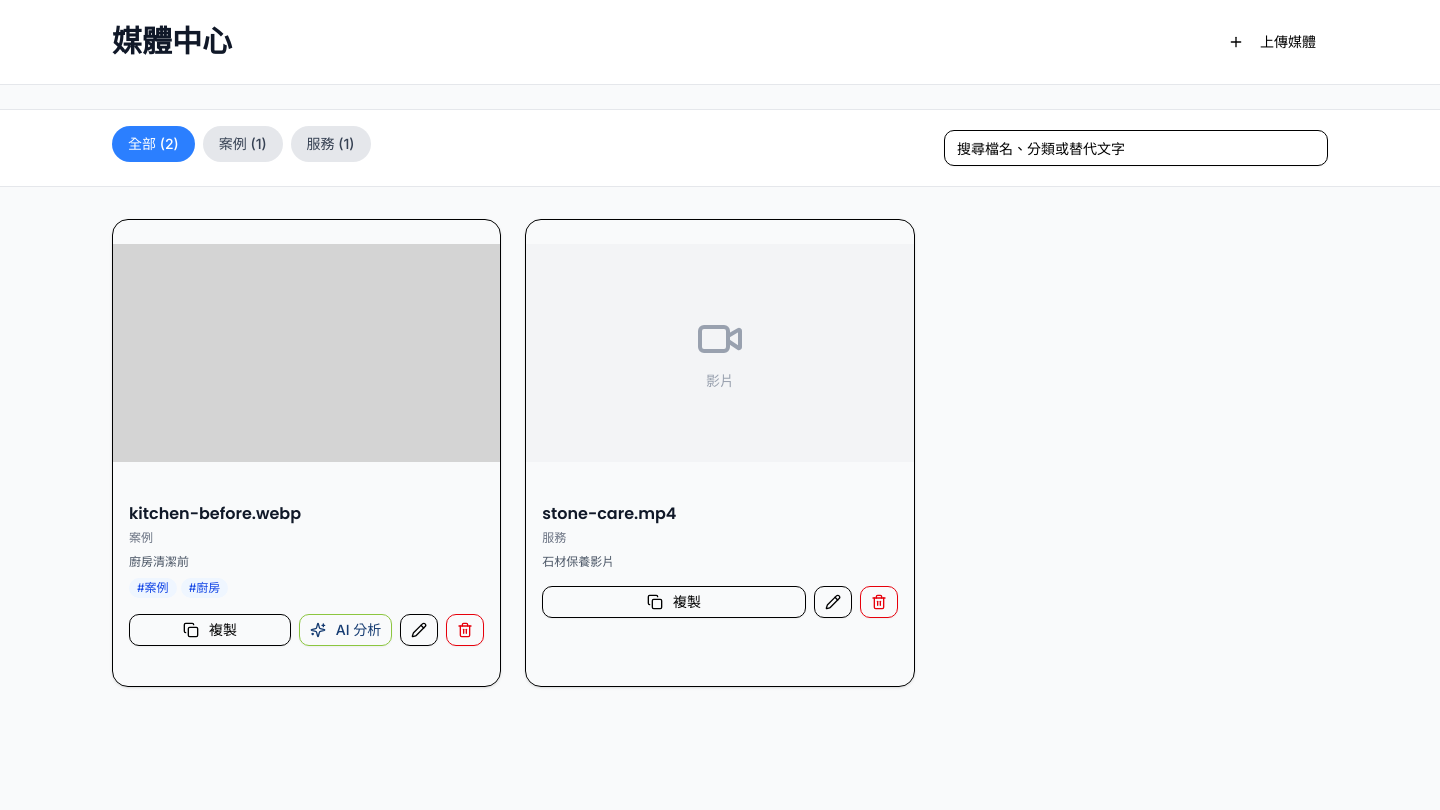
Test: CMSMedia 管理介面 › 可依檔名、分類與替代文字搜尋媒體
The image size is (1440, 810).
Type "石材" into the field named "搜尋媒體".
click(1136, 148); type("石材")  # box [944,130,1328,166]
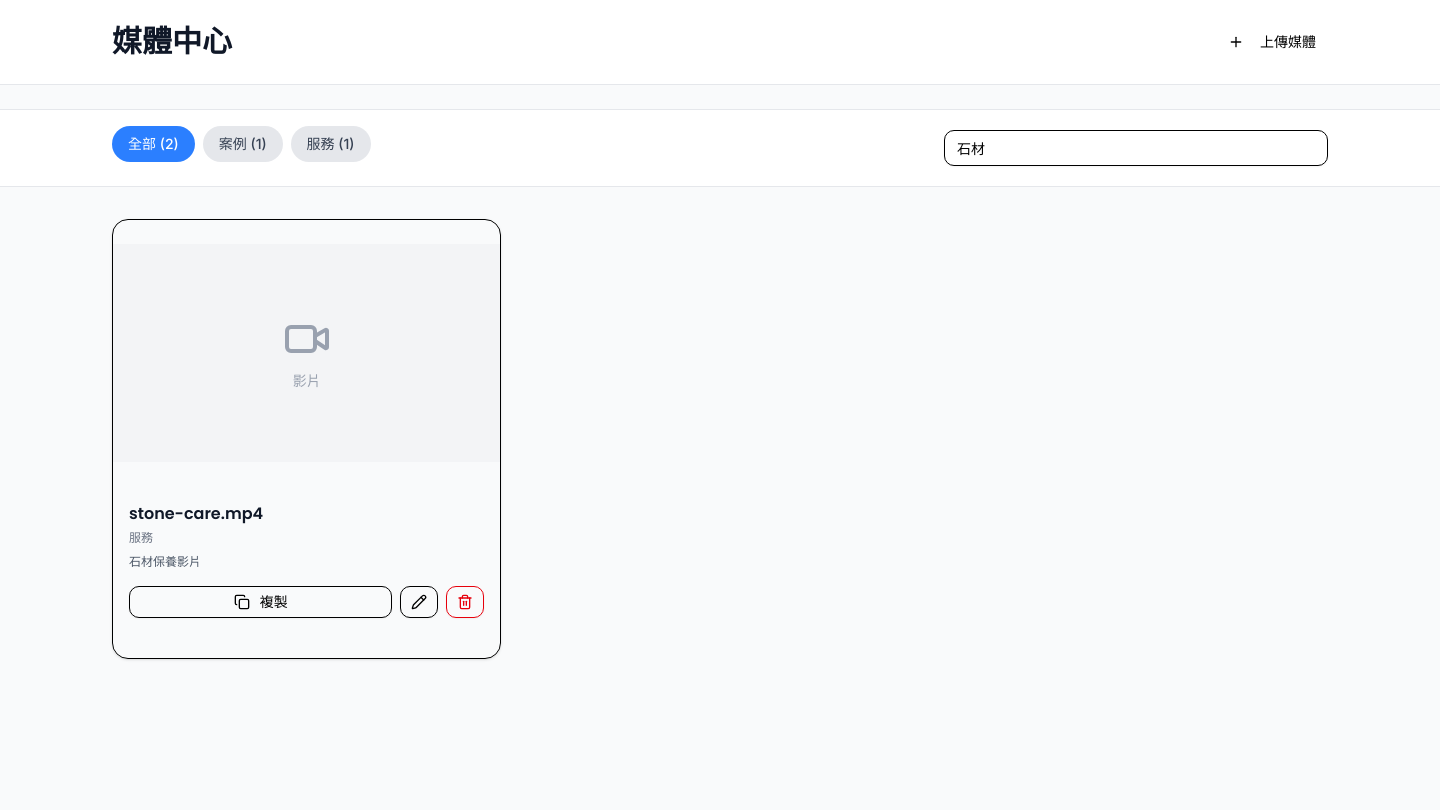
Expected: the heading "stone-care.mp4" is shown, [129,502,263,525]
Result: the heading "kitchen-before.webp" is gone
